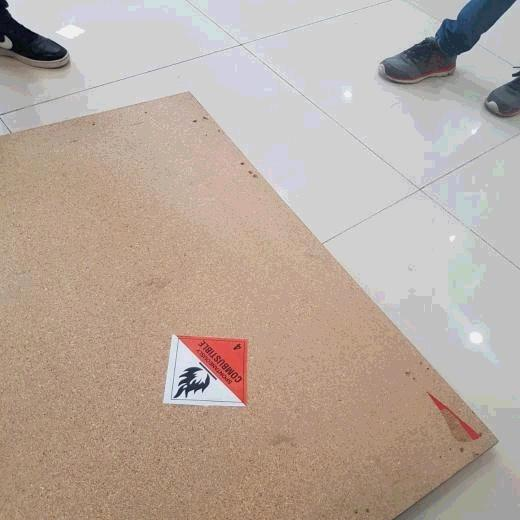spontaneously-combustible: (165, 334, 248, 409)
